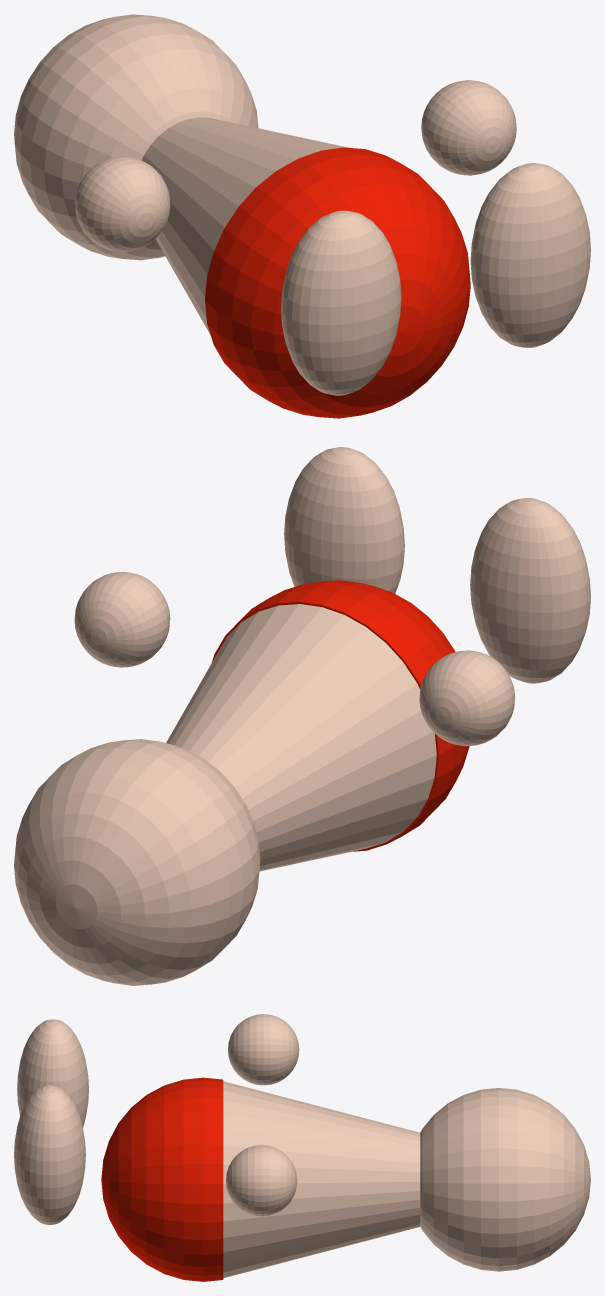
File: BornlessChara.fbx
3 renders of one model, top to bottom at view 1: azimuth 30°, elevation 25°; view 2: azimuth 150°, elevation 25°; view 3: azimuth 270°, elevation 25°, orthographic. The views are drawn at different scales.
Parts seen in each view (by area): view 1: Body, RightLeg, LeftLeg, LeftHand, RighHand; view 2: Body, RightLeg, LeftLeg, LeftHand, RighHand; view 3: Body, LeftLeg, RightLeg, LeftHand, RighHand.
Part boxes in pixels (x1,y1,x2,y2): Body: [14, 14, 470, 418]; RightLeg: [281, 210, 401, 395]; LeftLeg: [470, 163, 590, 347]; LeftHand: [421, 80, 516, 175]; RighHand: [75, 156, 170, 251]; Body: [14, 580, 469, 985]; RightLeg: [470, 498, 590, 683]; LeftLeg: [284, 447, 404, 593]; LeftHand: [74, 572, 170, 667]; RighHand: [419, 650, 515, 746]; Body: [101, 1077, 590, 1281]; LeftLeg: [14, 1085, 85, 1224]; RightLeg: [17, 1019, 88, 1126]; LeftHand: [226, 1145, 297, 1216]; RighHand: [228, 1014, 299, 1085].
Bounding box in the file's own units: 374 × 244 × 584.
